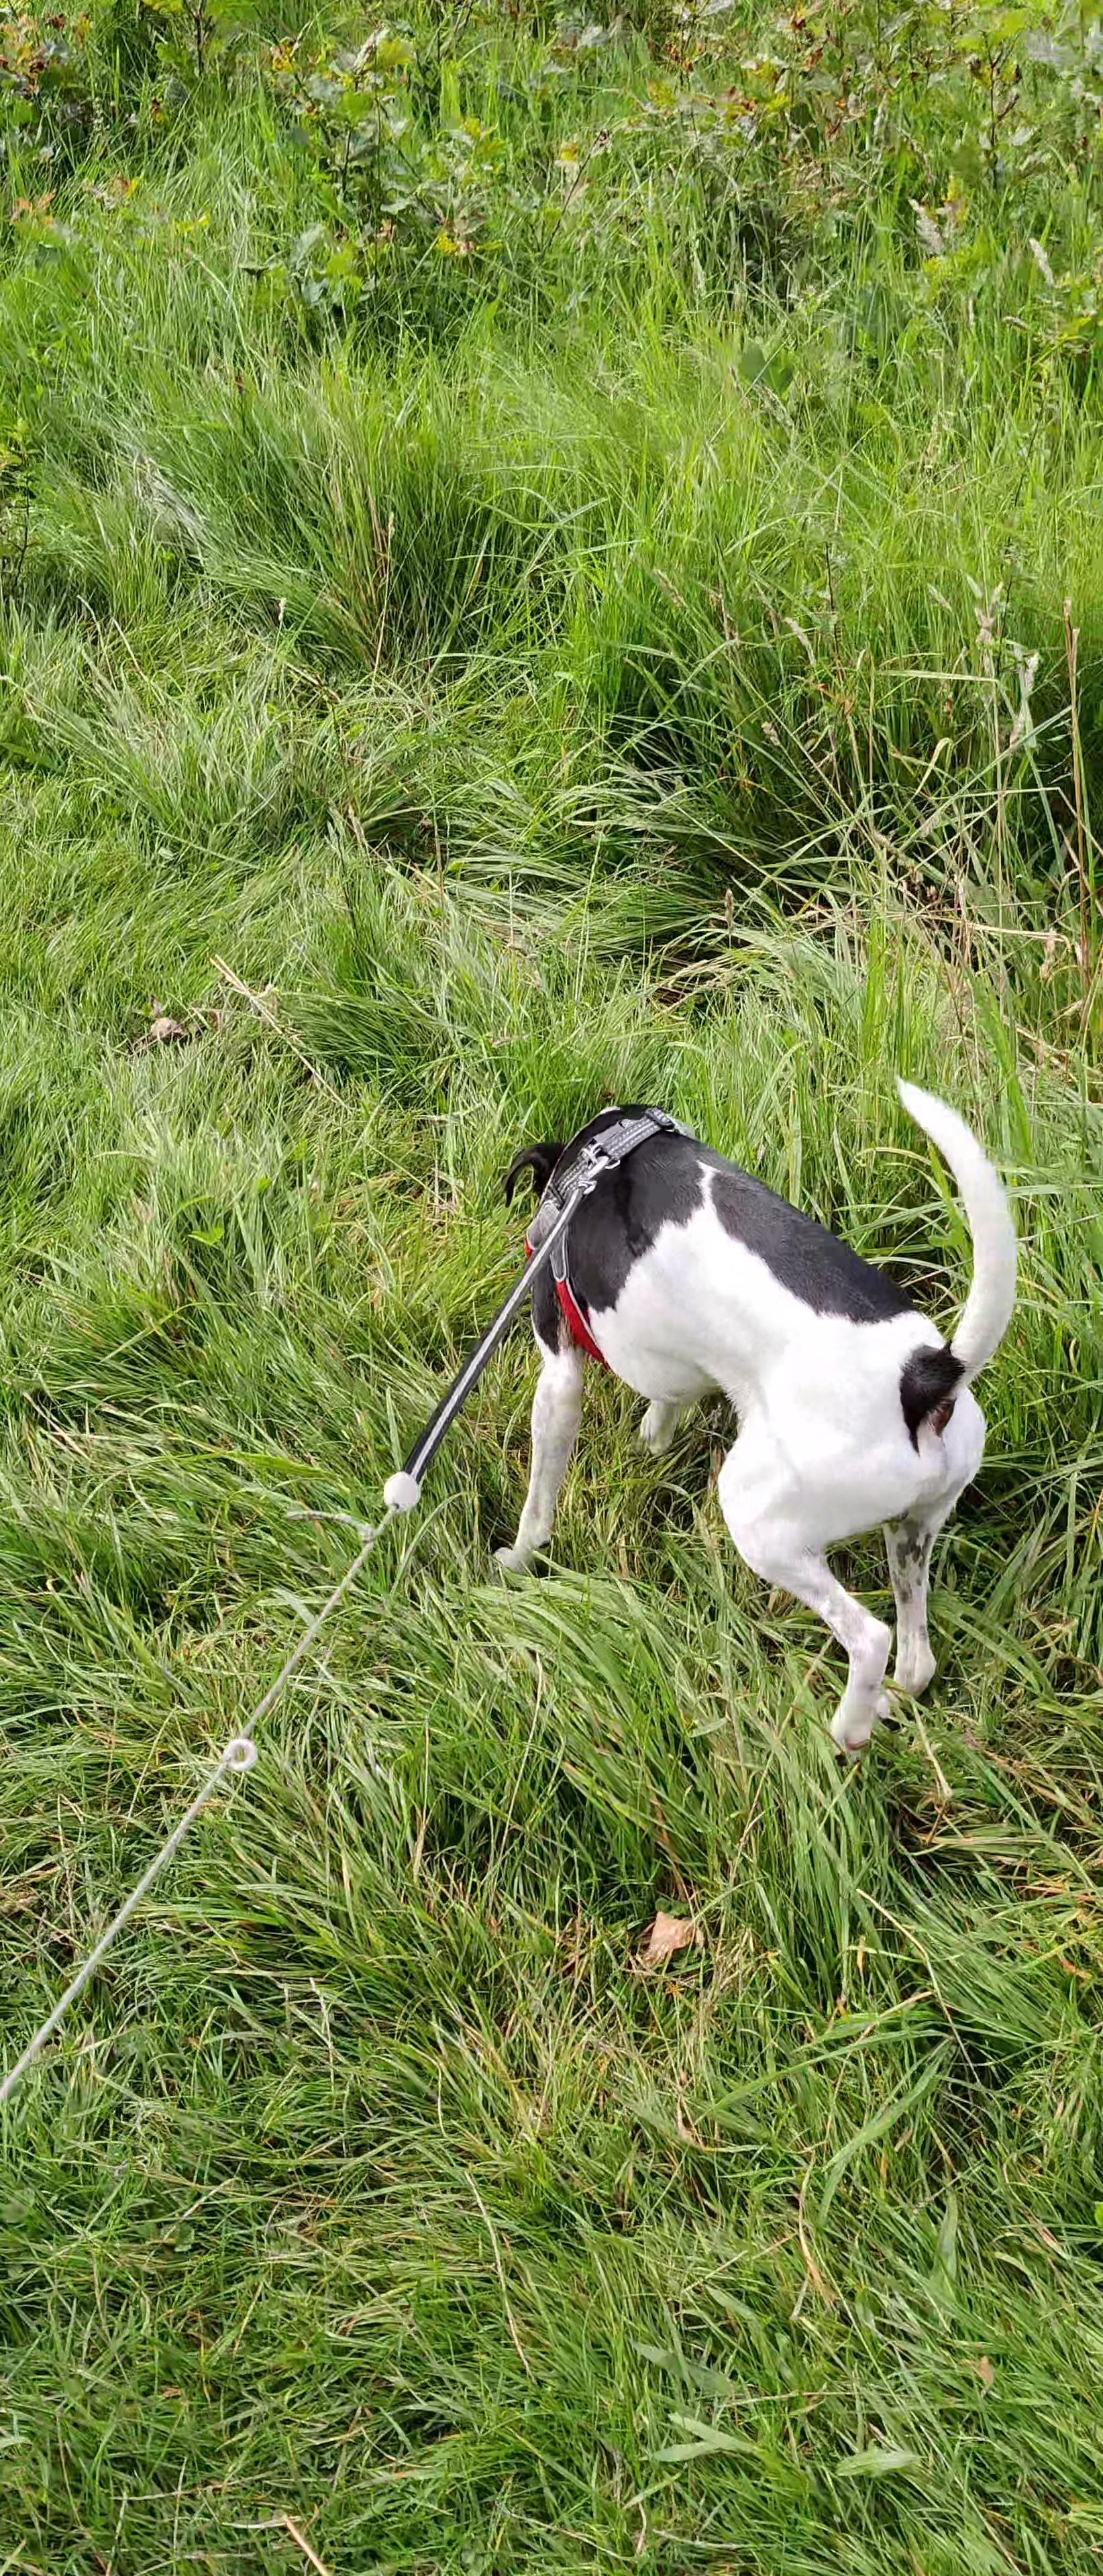Dog: (483, 1053, 1034, 1755)
